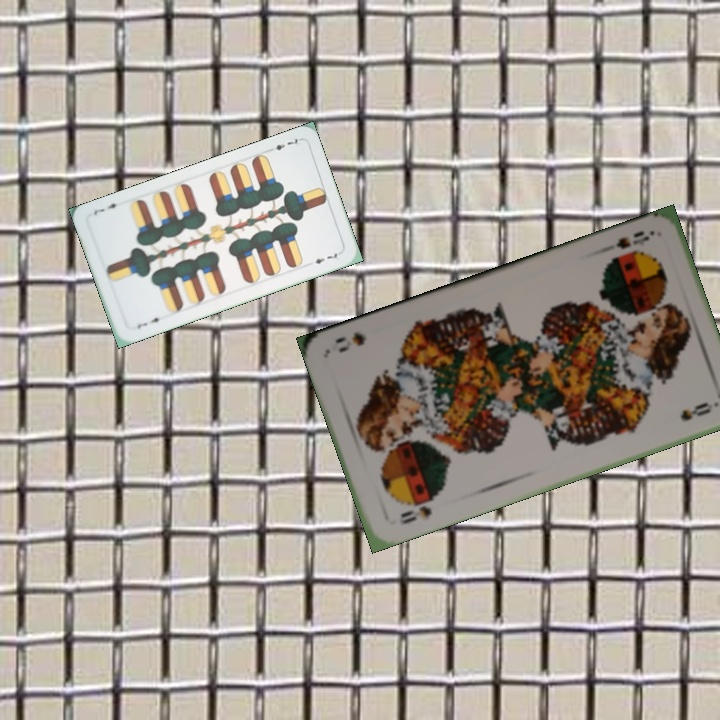E7: (263, 135, 303, 154), (133, 313, 166, 331)
SO: (396, 501, 435, 527), (612, 227, 652, 252)
